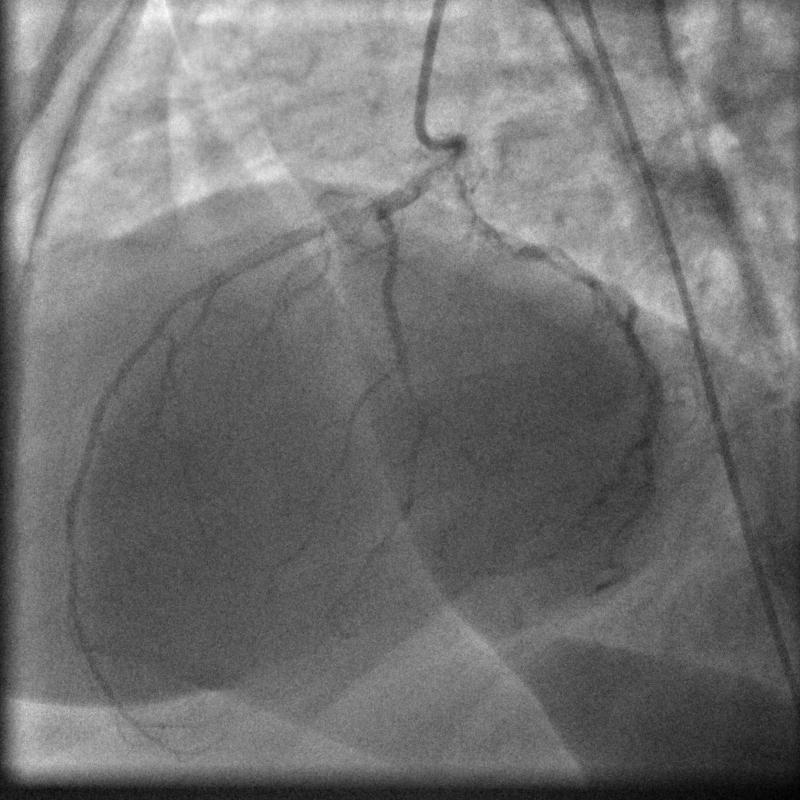Stenosis: (493, 217, 539, 268)
